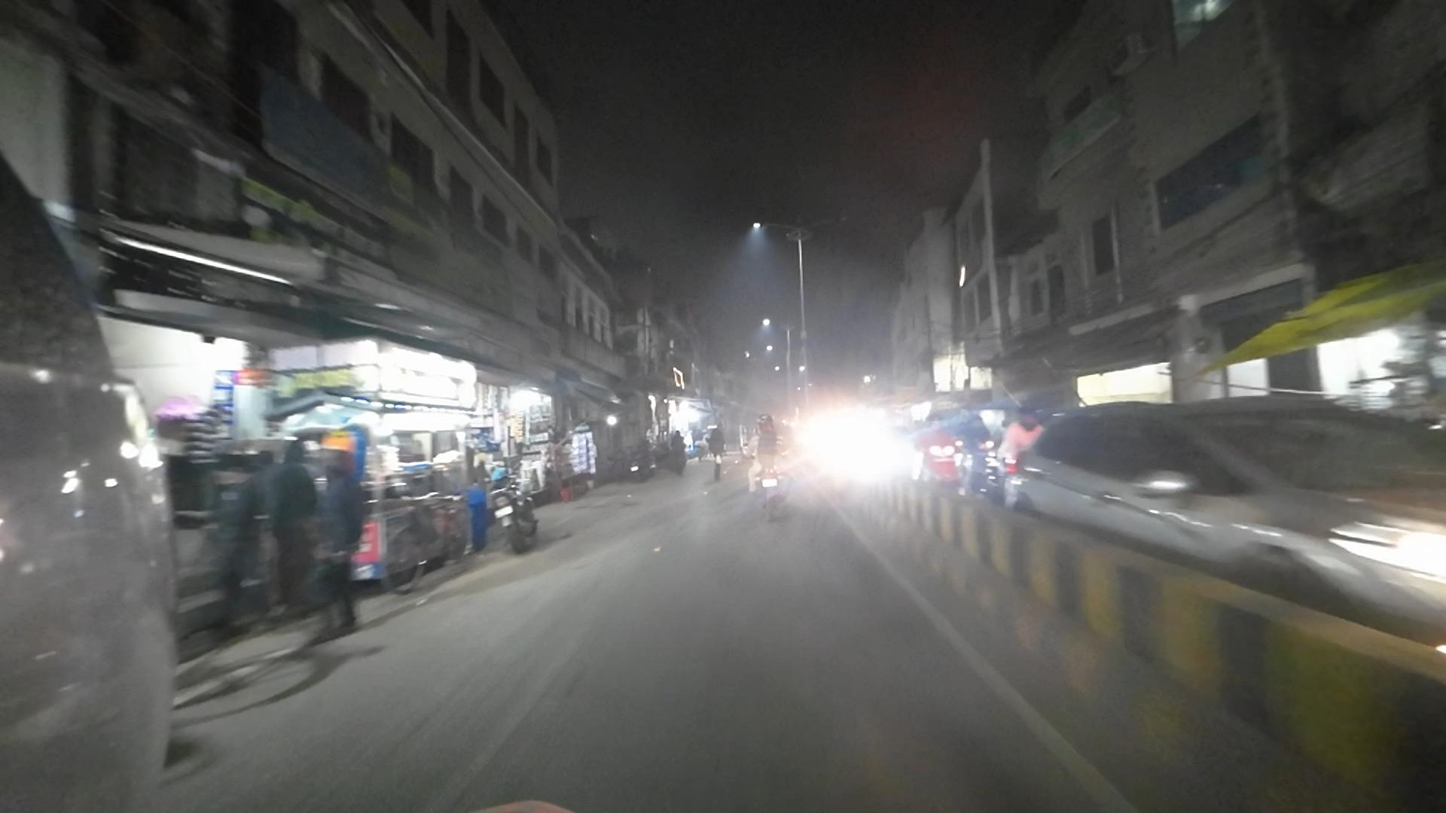streetlight: (814, 212, 847, 229)
